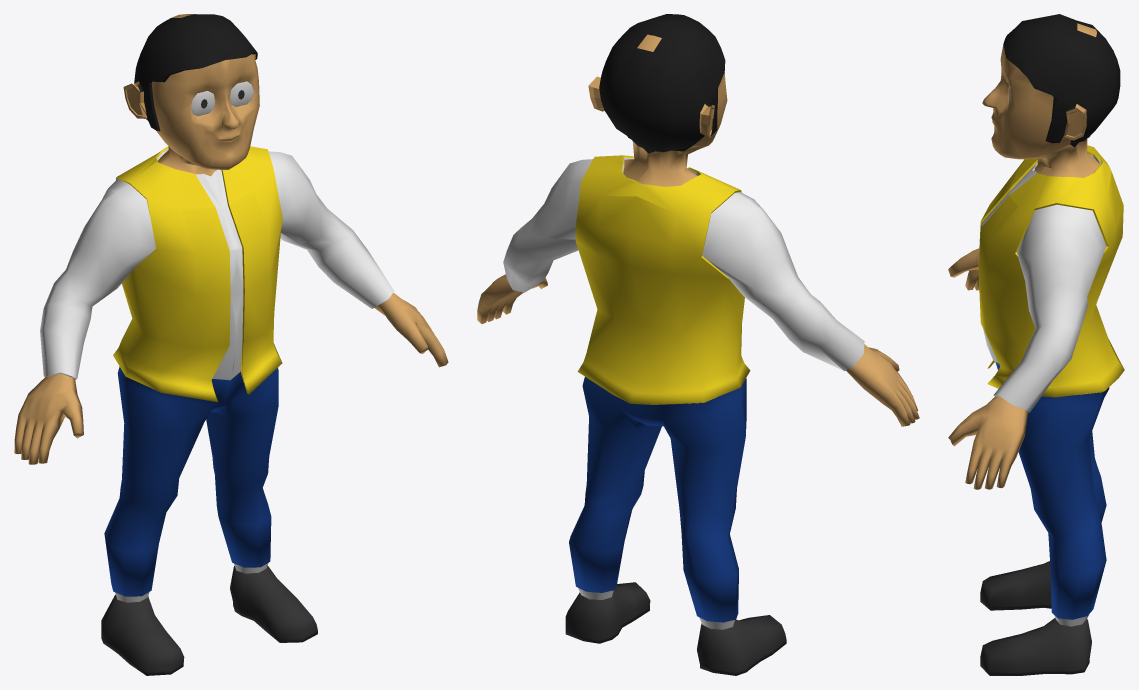
The model's file is arsitek.FBX.
The picture shows the model from 3 angles, left to right: view 1: azimuth 30°, elevation 25°; view 2: azimuth 150°, elevation 25°; view 3: azimuth 270°, elevation 25°; orthographic projection.
Parts seen in each view (by area): view 1: Badan004; view 2: Badan004; view 3: Badan004.
Boxes of the visible parts, x1,y1,x2,y2 form: Badan004: (14,14,448,675); Badan004: (477,14,919,675); Badan004: (948,14,1124,675).
Bounding box in the file's own units: 47.23 × 65.34 × 17.05.
